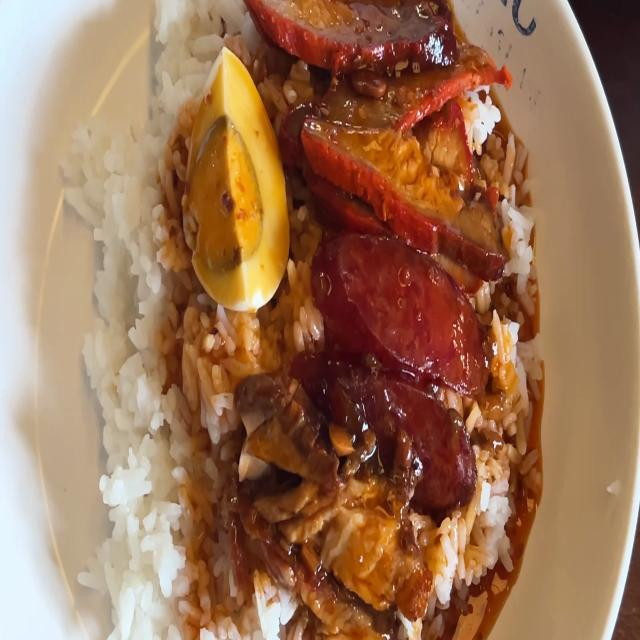01boiled_egg: (194, 61, 286, 307)
01chainese_sausage: (322, 255, 470, 456)
01crispy_pork: (286, 503, 428, 633), (241, 388, 308, 570)
01red_pork: (287, 0, 487, 233)
01red_pork_and_crispy_pork: (95, 0, 539, 640)
01rice: (100, 319, 237, 640), (91, 120, 185, 327), (141, 0, 214, 98)
